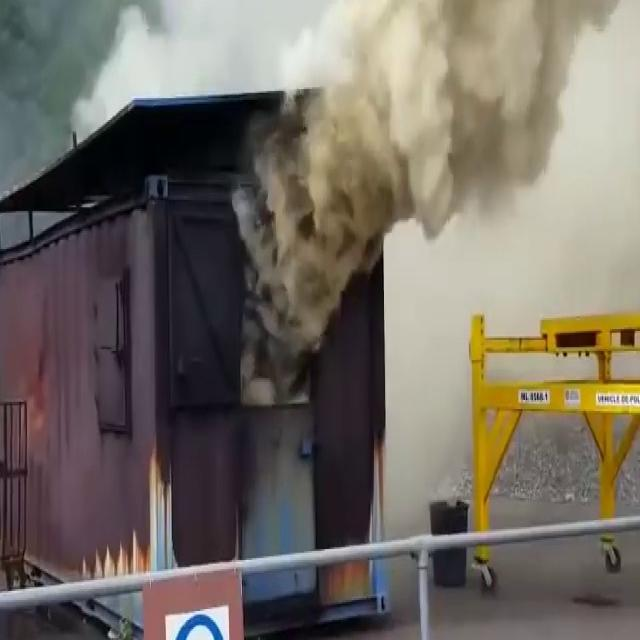Smoke: (253, 0, 640, 311)
